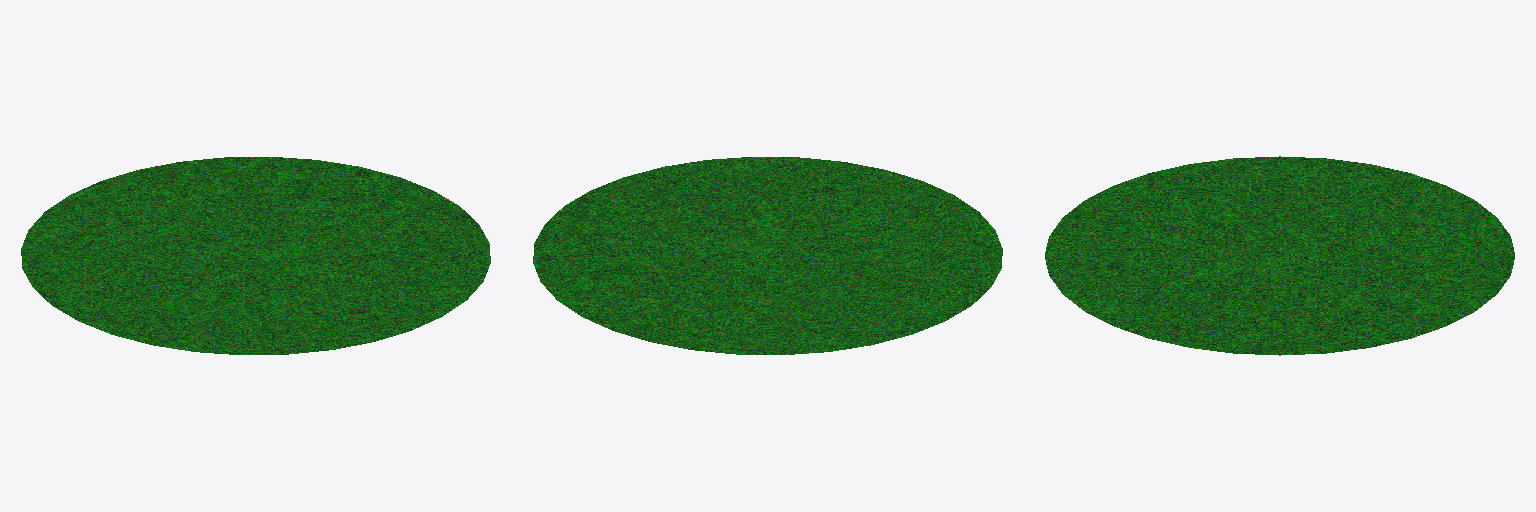
3 renders of one model, left to right at view 1: azimuth 30°, elevation 25°; view 2: azimuth 150°, elevation 25°; view 3: azimuth 270°, elevation 25°, orthographic.
Parts seen in each view (by area): view 1: Mesh_2; view 2: Mesh_2; view 3: Mesh_2.
Part boxes in pixels (left/top/right/bottom): Mesh_2: left=21, top=157, right=490, bottom=354; Mesh_2: left=533, top=157, right=1002, bottom=354; Mesh_2: left=1045, top=156, right=1514, bottom=355.
Size of the model in its own units: 2 by 0.0001 by 2.
Materials: 1 (1 with a texture image).